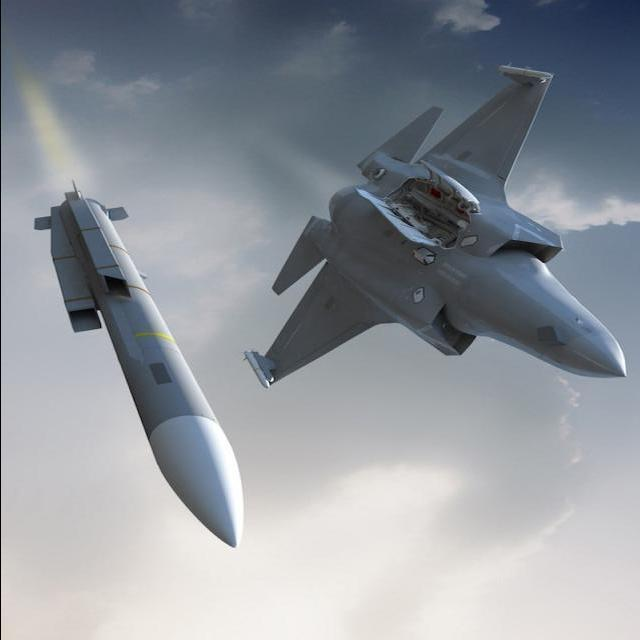missile: (60, 181, 242, 548)
